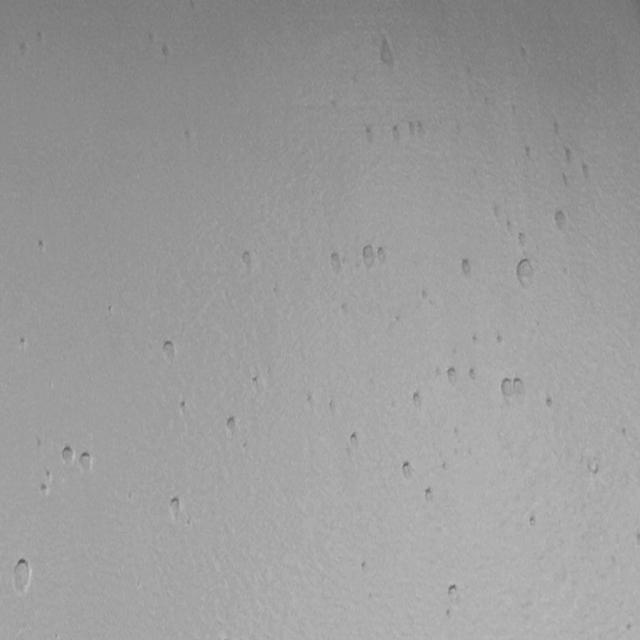pin holes: (9, 558, 32, 595), (374, 36, 398, 69), (514, 258, 538, 290), (166, 493, 187, 523), (238, 247, 260, 274), (159, 338, 180, 366), (551, 209, 572, 236), (78, 448, 97, 476), (326, 247, 345, 274), (444, 581, 465, 605), (58, 444, 77, 469), (346, 428, 364, 454), (397, 458, 417, 481), (222, 415, 241, 439), (411, 119, 430, 142), (360, 242, 378, 266), (176, 397, 194, 421), (443, 364, 460, 389), (391, 121, 408, 146), (517, 40, 534, 65), (500, 376, 514, 406), (578, 162, 596, 185), (361, 122, 377, 147), (459, 258, 476, 281), (561, 147, 579, 168), (377, 245, 393, 268), (248, 370, 264, 393), (489, 200, 505, 222), (410, 389, 425, 412), (303, 392, 320, 412), (514, 374, 528, 398), (159, 43, 175, 64), (17, 41, 31, 61), (182, 126, 196, 146), (418, 288, 433, 306), (422, 485, 436, 504), (544, 394, 558, 413), (40, 480, 53, 500), (587, 463, 603, 479), (468, 366, 482, 384), (515, 230, 529, 248), (143, 30, 157, 47), (522, 146, 536, 162), (360, 558, 374, 574), (525, 513, 538, 530), (18, 334, 30, 352), (328, 398, 340, 416), (36, 31, 48, 49), (340, 300, 351, 319), (439, 460, 452, 475), (37, 238, 49, 253), (470, 332, 482, 347), (623, 619, 635, 634), (497, 332, 508, 348), (34, 29, 45, 45), (104, 302, 115, 318), (45, 470, 55, 484), (453, 426, 461, 440), (620, 427, 628, 440), (444, 607, 452, 619)
